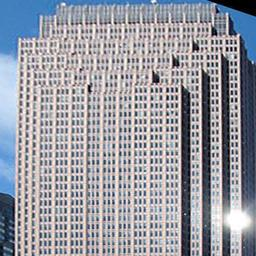building: (16, 0, 241, 256)
